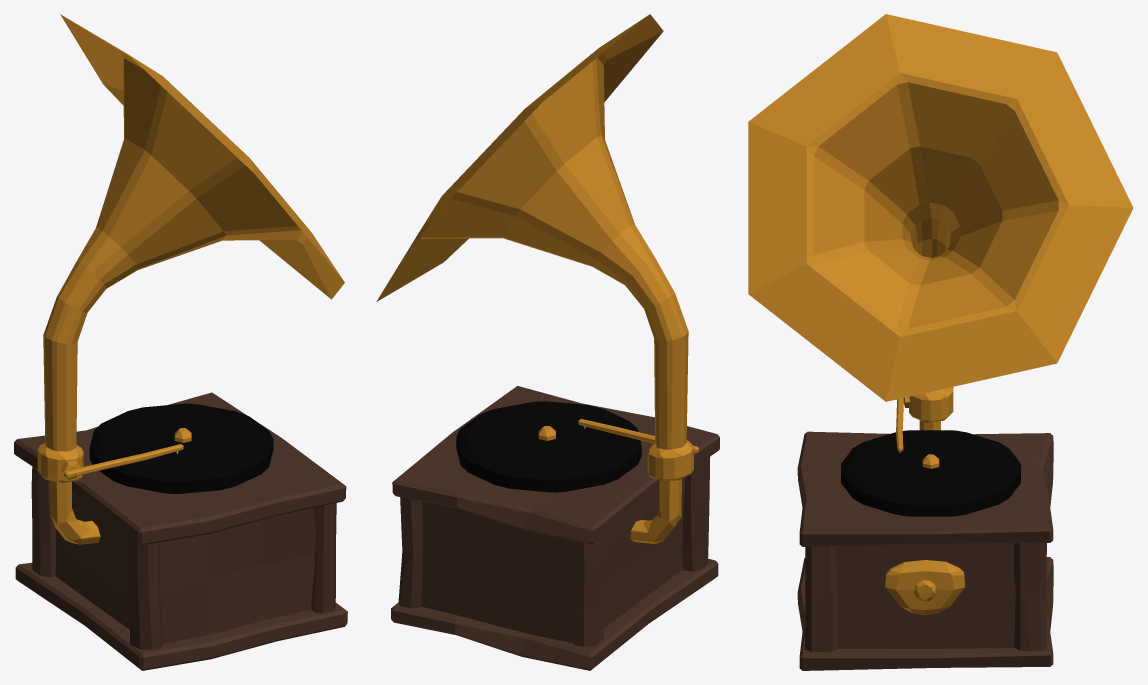
File: gramophone 1.fbx
3 views of the same model, side by side, from view 1: azimuth 30°, elevation 25°; view 2: azimuth 150°, elevation 25°; view 3: azimuth 270°, elevation 25° (orthographic). The views are drawn at different scales.
Parts seen in each view (by area): view 1: Cylinder, Cube.001, Cube.009, Cylinder.001, Cube.008, Cube.010, Cube.005, Cube.006, Cube.011, Cube; view 2: Cylinder, Plane, Cube.009, Cylinder.001, Cube.008, Cube.010, Cube.011, Cube.005, Cube.002, Cube; view 3: Cylinder, Cube.009, Cube.004, Cylinder.001, Cube.008, Cube.002, Cube.006, Cube.013.
Part boxes in pixels (left/top/right/bottom): Cylinder: left=37, top=14, right=344, bottom=544; Cube.001: left=160, top=508, right=315, bottom=643; Cube.009: left=14, top=392, right=346, bottom=545; Cylinder.001: left=89, top=403, right=273, bottom=493; Cube.008: left=15, top=562, right=347, bottom=670; Cube.010: left=55, top=493, right=129, bottom=629; Cube.005: left=129, top=537, right=162, bottom=650; Cube.006: left=311, top=503, right=336, bottom=613; Cube.011: left=31, top=466, right=55, bottom=577; Cube: left=64, top=444, right=183, bottom=478; Cylinder: left=376, top=14, right=693, bottom=543; Plane: left=421, top=501, right=574, bottom=643; Cube.009: left=392, top=386, right=719, bottom=544; Cylinder.001: left=456, top=401, right=641, bottom=492; Cube.008: left=391, top=558, right=718, bottom=670; Cube.010: left=603, top=477, right=685, bottom=627; Cube.011: left=573, top=533, right=605, bottom=646; Cube.005: left=682, top=456, right=710, bottom=571; Cube.002: left=398, top=497, right=422, bottom=608; Cube: left=578, top=419, right=698, bottom=453; Cylinder: left=748, top=14, right=1133, bottom=430; Cube.009: left=797, top=431, right=1053, bottom=546; Cube.004: left=835, top=543, right=1015, bottom=648; Cylinder.001: left=841, top=430, right=1020, bottom=516; Cube.008: left=797, top=557, right=1053, bottom=670; Cube.002: left=1014, top=543, right=1046, bottom=651; Cube.006: left=805, top=546, right=837, bottom=651; Cube.013: left=885, top=560, right=964, bottom=615.
Size of the model in its own units: 196 by 409 by 249.
